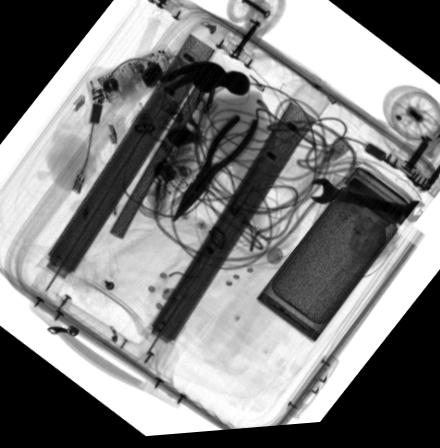Hammer: (108, 63, 248, 241)
Pliers: (170, 117, 257, 231)
Wrench: (311, 182, 424, 231)
